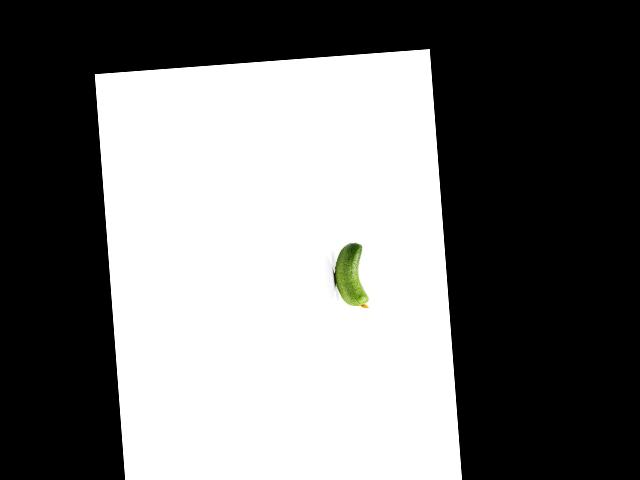cucumber: (331, 241, 369, 310)
